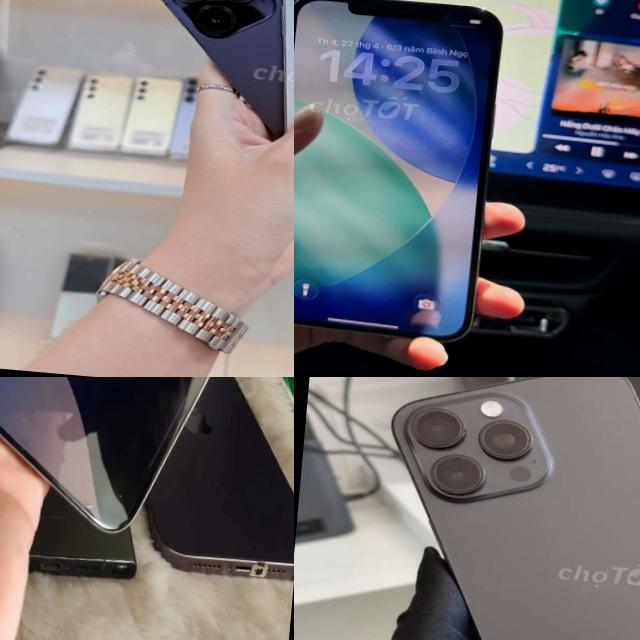gen_12_13: (294, 0, 514, 352)
gen_15: (352, 377, 640, 640), (0, 377, 246, 570)
